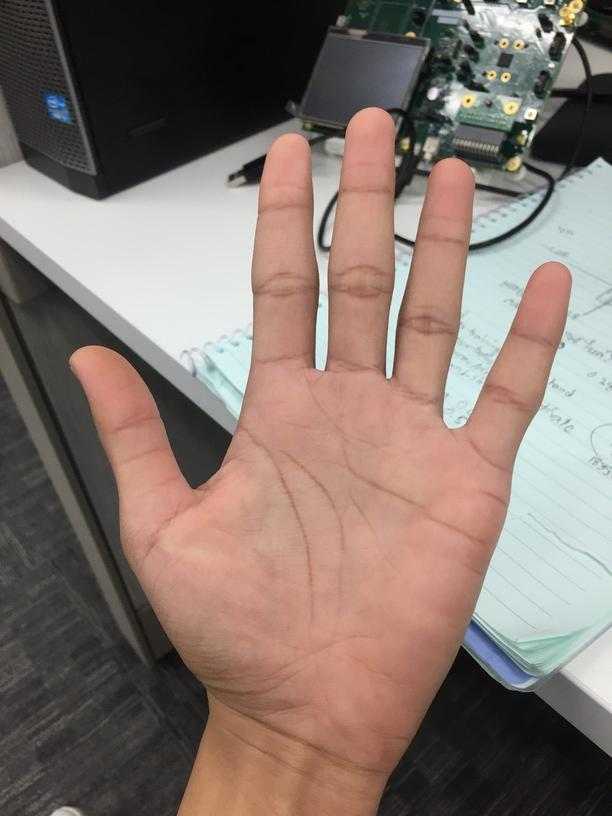hand: (66, 102, 570, 766)
